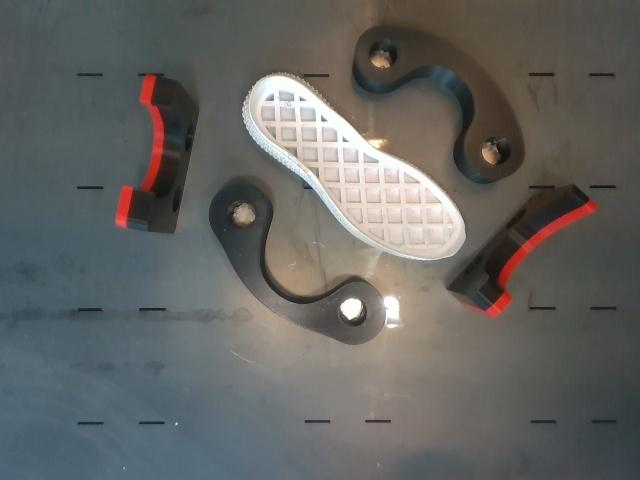shoes: (250, 76, 465, 259)
